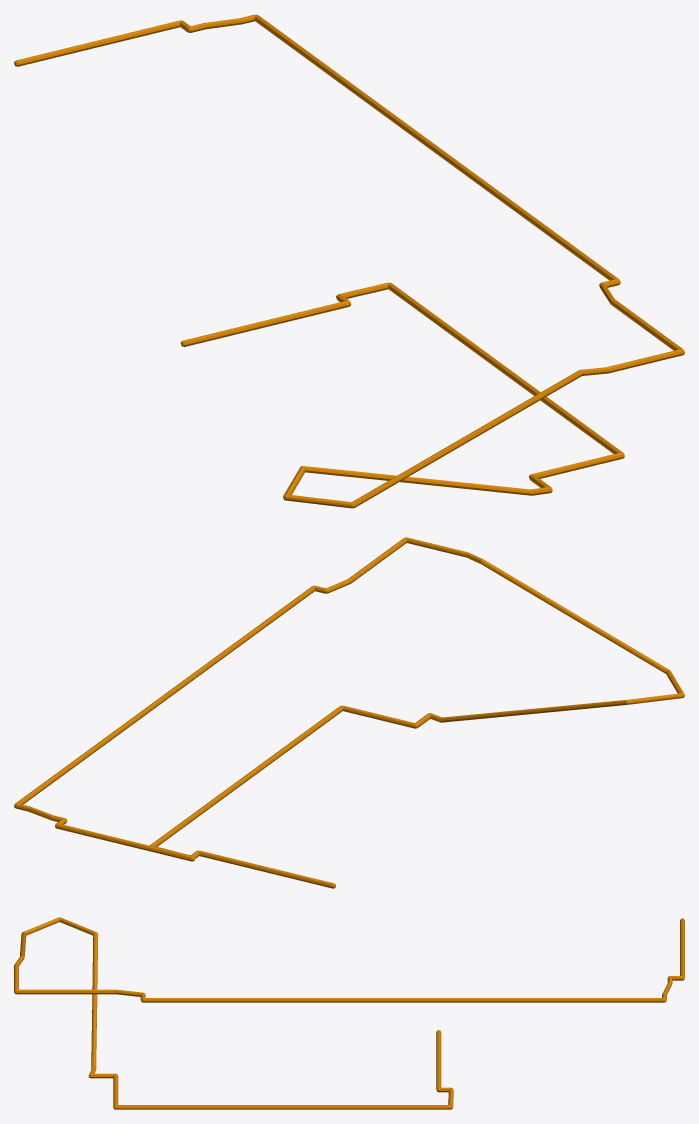
The picture shows the model from 3 angles, top to bottom: view 1: azimuth 30°, elevation 25°; view 2: azimuth 150°, elevation 25°; view 3: azimuth 270°, elevation 25°; orthographic projection. The views are drawn at different scales.
Size of the model in its own units: 1325 by 520 by 2704.
